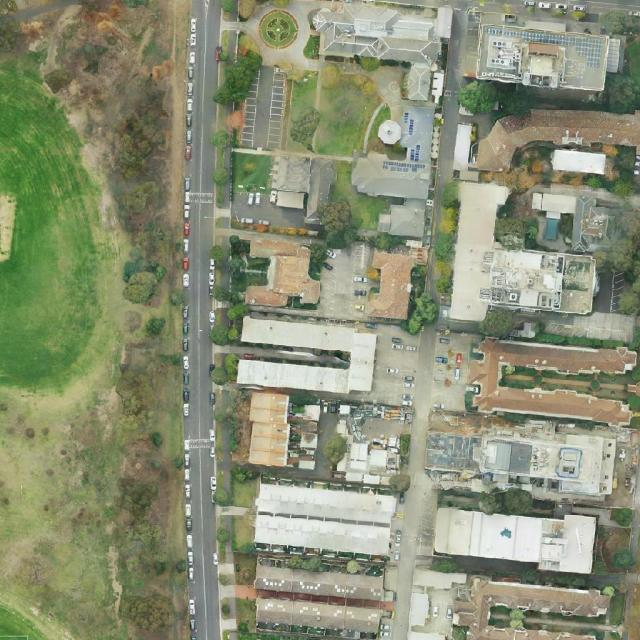building: (450, 181, 603, 329), (465, 332, 638, 428), (468, 96, 640, 174), (426, 432, 617, 501), (236, 316, 378, 398), (433, 507, 597, 573), (252, 483, 397, 557), (475, 23, 621, 95), (252, 562, 386, 640), (311, 1, 453, 64), (350, 98, 435, 199), (245, 391, 321, 470), (245, 239, 323, 311), (336, 414, 400, 485), (366, 251, 414, 321), (377, 193, 434, 239), (303, 157, 338, 227), (572, 196, 615, 251), (268, 155, 311, 209), (572, 309, 637, 342), (401, 62, 445, 103), (454, 123, 479, 181), (552, 148, 607, 174), (534, 194, 576, 220)
greenland: (0, 62, 99, 385), (0, 0, 189, 94), (111, 77, 180, 305), (274, 52, 385, 167), (67, 49, 162, 155), (313, 154, 397, 238), (206, 234, 251, 346), (429, 180, 462, 295), (212, 44, 265, 113), (456, 79, 532, 125), (401, 263, 446, 338), (439, 487, 555, 516), (316, 197, 361, 252), (608, 144, 640, 198), (233, 153, 273, 193), (209, 130, 234, 189), (519, 567, 587, 588), (606, 544, 639, 577), (478, 308, 514, 337), (221, 1, 269, 21), (209, 355, 239, 386), (370, 231, 403, 252), (309, 244, 328, 280), (431, 555, 460, 574), (613, 507, 634, 528), (510, 609, 524, 629)
metalled_road: (390, 325, 454, 640), (436, 10, 468, 191), (230, 190, 312, 231), (252, 65, 275, 148), (592, 272, 613, 312), (420, 1, 479, 8), (220, 11, 240, 31), (482, 1, 524, 7)
